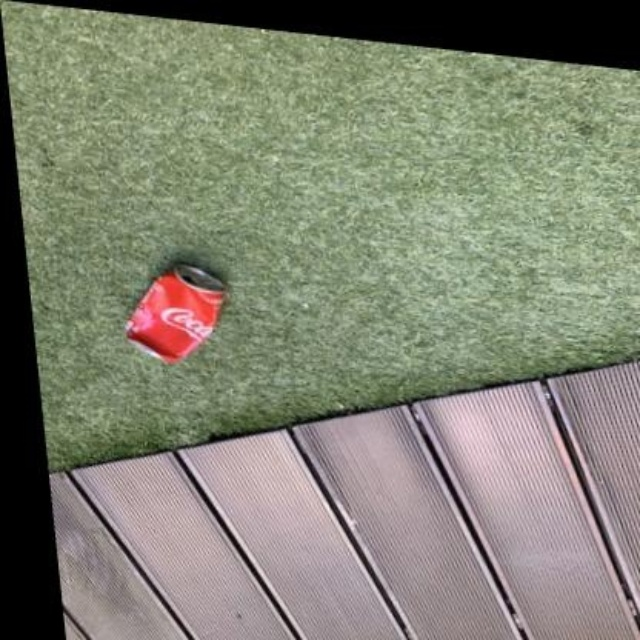trash: (125, 265, 222, 363)
